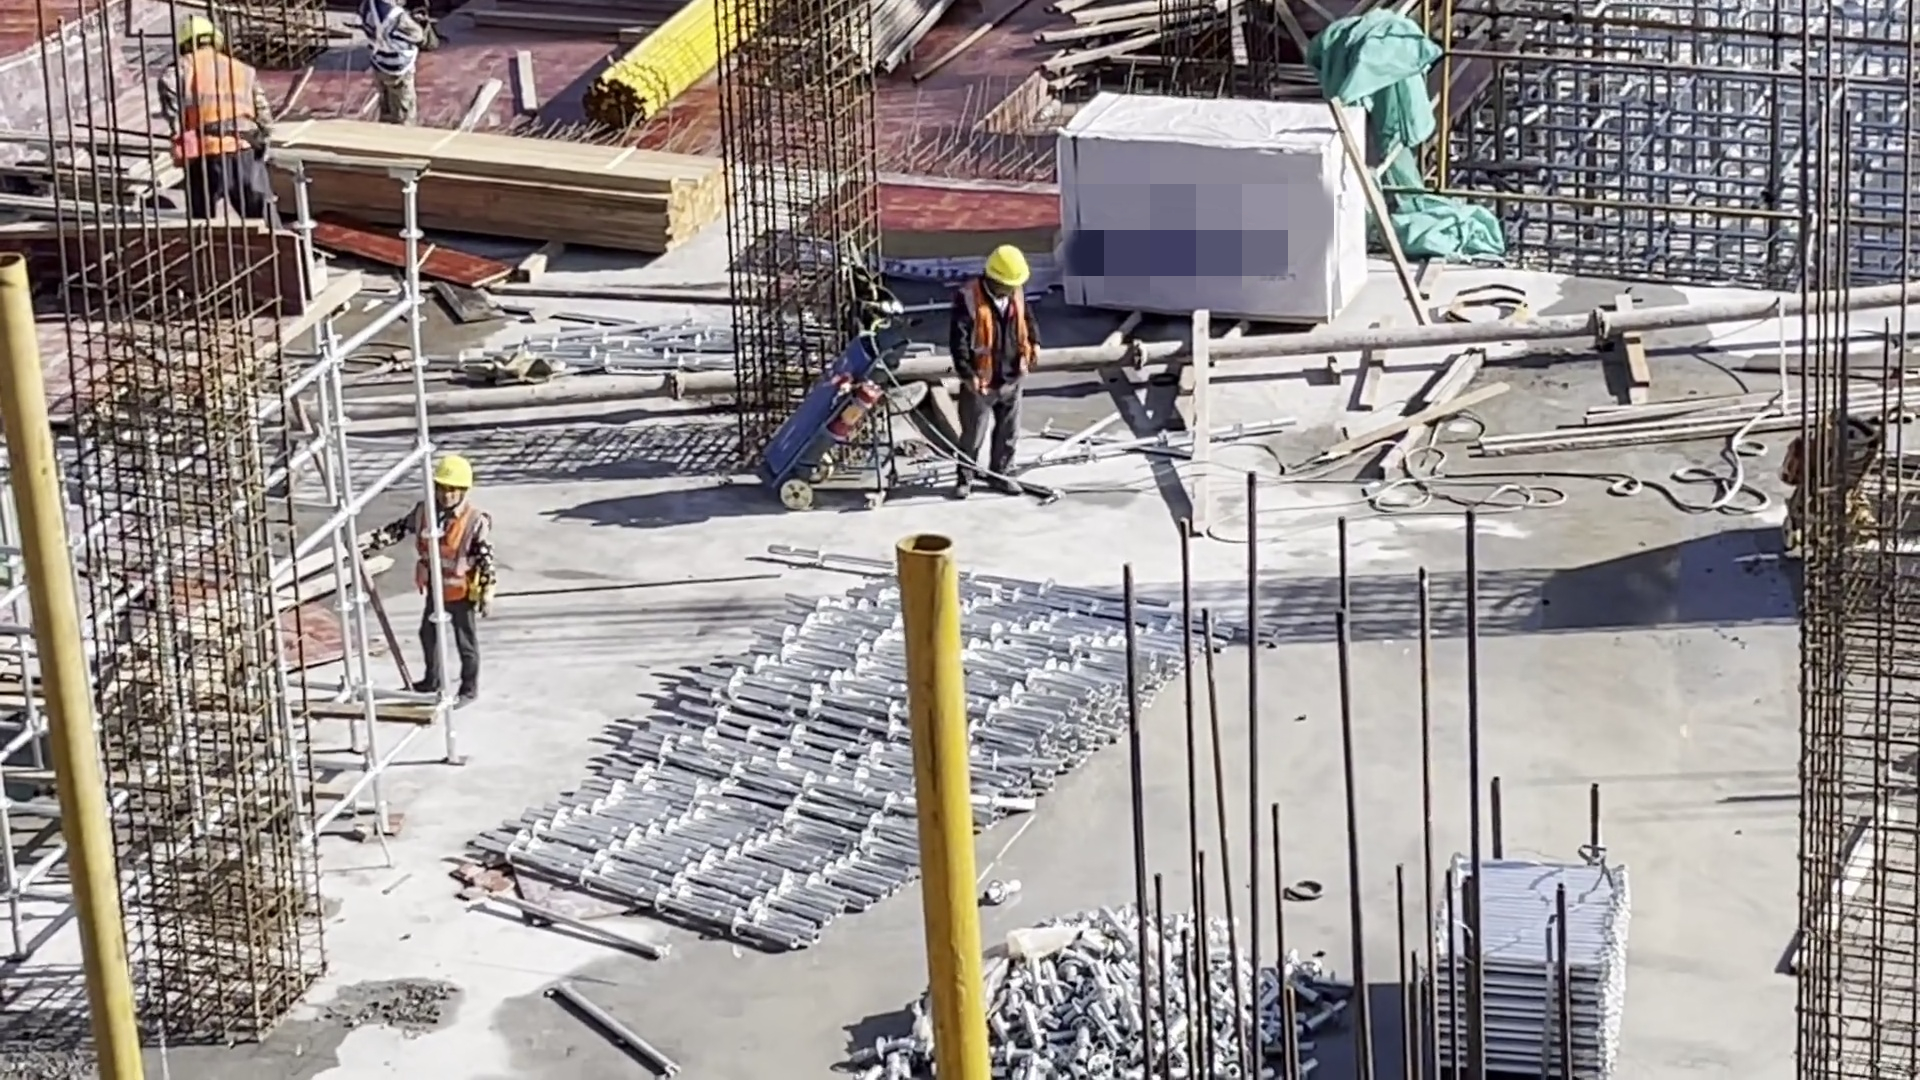helmet: (978, 245, 1022, 287), (424, 455, 473, 492), (173, 19, 218, 45)
person: (362, 457, 501, 708), (159, 23, 281, 228), (949, 243, 1043, 501), (362, 2, 429, 126)
vest: (176, 55, 258, 157), (961, 279, 1032, 389), (415, 497, 478, 607)
